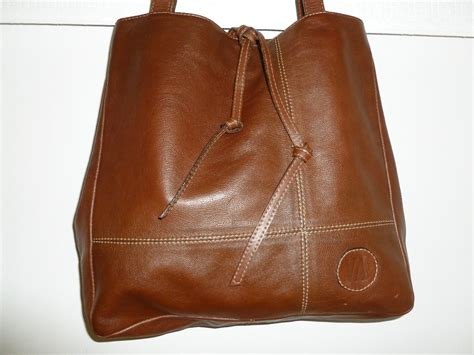cuero: (73, 1, 415, 342)
